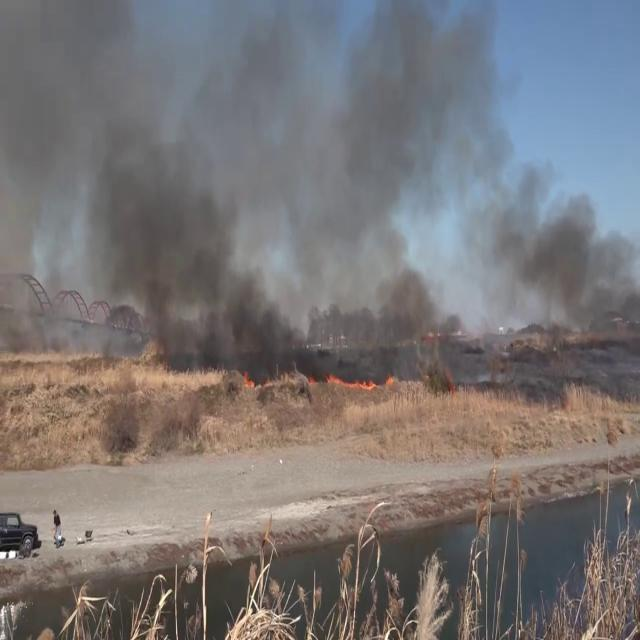Smoke: (0, 0, 612, 377)
